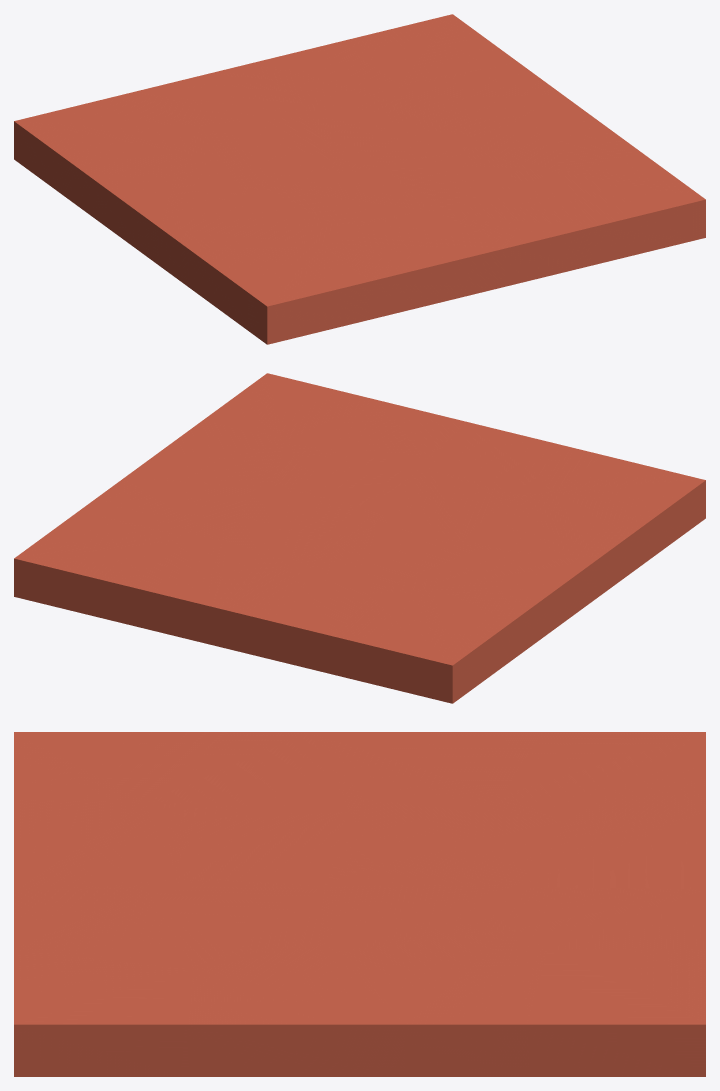
Rendered from Kit_Brick_Floor_Fractured.glb.
The picture shows the model from 3 angles, top to bottom: view 1: azimuth 30°, elevation 25°; view 2: azimuth 150°, elevation 25°; view 3: azimuth 270°, elevation 25°; orthographic projection. The views are drawn at different scales.
Parts seen in each view (by area): view 1: Kit_Brick_Floor_frag_01, Kit_Brick_Floor_frag_05, Kit_Brick_Floor_frag_13, Kit_Brick_Floor_frag_04, Kit_Brick_Floor_frag_09, Kit_Brick_Floor_frag_03, Kit_Brick_Floor_frag_02, Kit_Brick_Floor_frag_15, Kit_Brick_Floor_frag_07, Kit_Brick_Floor_frag_14, Kit_Brick_Floor_frag_11, Kit_Brick_Floor_frag_16 (+4 smaller); view 2: Kit_Brick_Floor_frag_04, Kit_Brick_Floor_frag_16, Kit_Brick_Floor_frag_08, Kit_Brick_Floor_frag_03, Kit_Brick_Floor_frag_12, Kit_Brick_Floor_frag_01, Kit_Brick_Floor_frag_02, Kit_Brick_Floor_frag_05, Kit_Brick_Floor_frag_15, Kit_Brick_Floor_frag_07, Kit_Brick_Floor_frag_14, Kit_Brick_Floor_frag_11 (+4 smaller); view 3: Kit_Brick_Floor_frag_14, Kit_Brick_Floor_frag_16, Kit_Brick_Floor_frag_13, Kit_Brick_Floor_frag_15, Kit_Brick_Floor_frag_04, Kit_Brick_Floor_frag_05, Kit_Brick_Floor_frag_07, Kit_Brick_Floor_frag_02, Kit_Brick_Floor_frag_11, Kit_Brick_Floor_frag_09, Kit_Brick_Floor_frag_03, Kit_Brick_Floor_frag_01 (+4 smaller).
Boxes of the visible parts, x1,y1,x2,y2 form: Kit_Brick_Floor_frag_01: (188,246,369,344); Kit_Brick_Floor_frag_05: (323,210,506,319); Kit_Brick_Floor_frag_13: (557,153,705,265); Kit_Brick_Floor_frag_04: (14,92,199,200); Kit_Brick_Floor_frag_09: (451,168,592,286); Kit_Brick_Floor_frag_03: (70,152,238,265); Kit_Brick_Floor_frag_02: (158,188,334,286); Kit_Brick_Floor_frag_15: (379,62,562,137); Kit_Brick_Floor_frag_07: (182,115,334,188); Kit_Brick_Floor_frag_14: (475,94,642,171); Kit_Brick_Floor_frag_11: (309,100,475,166); Kit_Brick_Floor_frag_16: (339,14,517,83); Kit_Brick_Floor_frag_04: (332,588,512,703); Kit_Brick_Floor_frag_16: (14,511,183,624); Kit_Brick_Floor_frag_08: (214,560,369,674); Kit_Brick_Floor_frag_03: (433,549,597,662); Kit_Brick_Floor_frag_12: (126,542,285,645); Kit_Brick_Floor_frag_01: (554,455,705,575); Kit_Brick_Floor_frag_02: (465,490,627,597); Kit_Brick_Floor_frag_05: (426,422,603,495); Kit_Brick_Floor_frag_15: (79,478,254,543); Kit_Brick_Floor_frag_07: (293,528,477,594); Kit_Brick_Floor_frag_14: (124,419,294,488); Kit_Brick_Floor_frag_11: (227,483,374,560); Kit_Brick_Floor_frag_14: (186,945,405,1076); Kit_Brick_Floor_frag_16: (527,949,705,1076); Kit_Brick_Floor_frag_13: (14,949,193,1076); Kit_Brick_Floor_frag_15: (345,929,547,1076); Kit_Brick_Floor_frag_04: (503,732,705,821); Kit_Brick_Floor_frag_05: (14,800,194,891); Kit_Brick_Floor_frag_07: (349,794,563,883); Kit_Brick_Floor_frag_02: (145,732,363,821); Kit_Brick_Floor_frag_11: (317,865,524,951); Kit_Brick_Floor_frag_09: (14,886,228,969); Kit_Brick_Floor_frag_03: (311,732,542,798); Kit_Brick_Floor_frag_01: (14,732,227,801).
Size of what is drawn, in the model's own units: 3 by 0.25 by 3.
2 materials, 2 textured.
